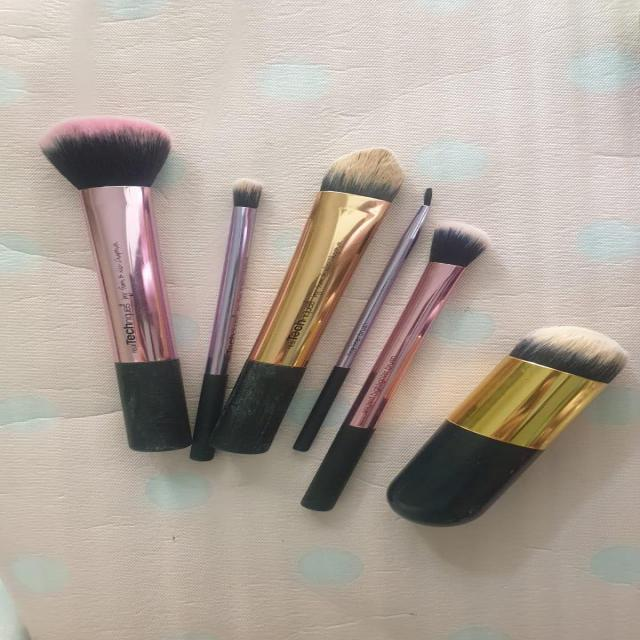brush: (279, 180, 499, 512), (29, 109, 198, 467), (382, 289, 635, 528), (168, 160, 292, 452), (251, 136, 416, 268), (402, 208, 516, 282)
